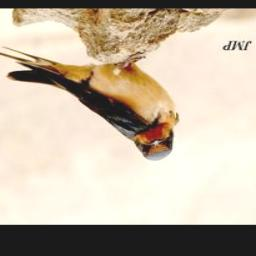Swallow: (0, 39, 181, 162)
